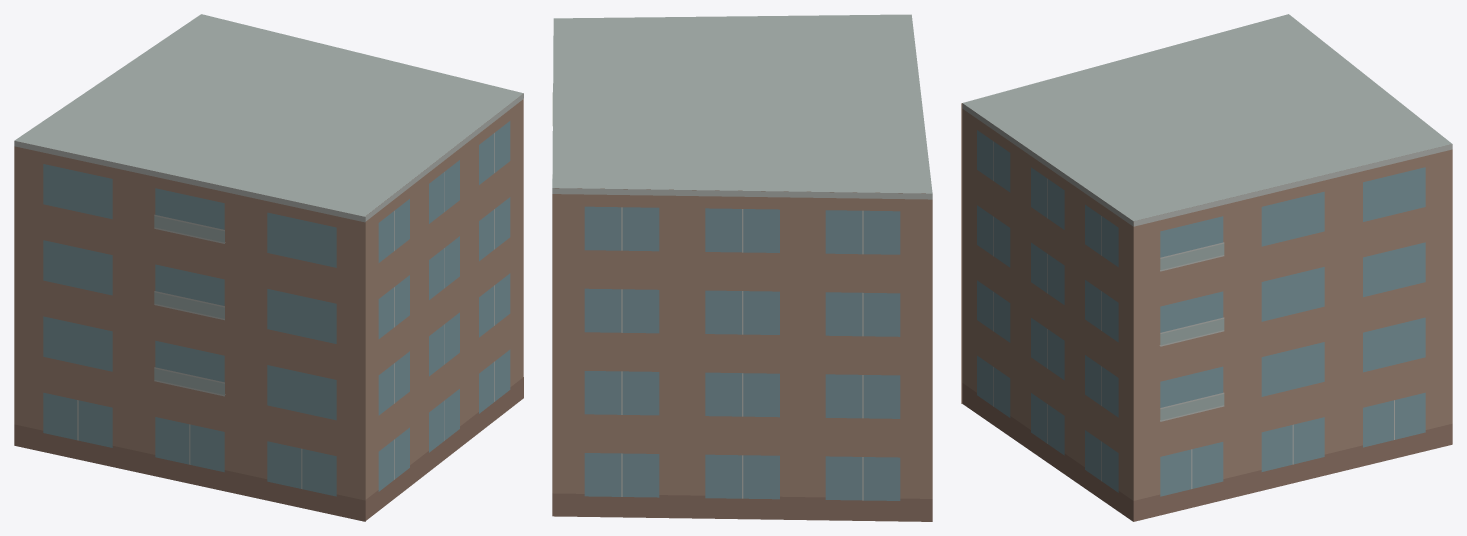
Rendered from survey-upis-32840286.glb.
3 renders of one model, left to right at view 1: azimuth 30°, elevation 25°; view 2: azimuth 150°, elevation 25°; view 3: azimuth 270°, elevation 25°, orthographic. The views are drawn at different scales.
Visible parts, largest first — view 1: survey-upis-32840286.tmp; view 2: survey-upis-32840286.tmp; view 3: survey-upis-32840286.tmp.
Part boxes in pixels (left/top/right/bottom): survey-upis-32840286.tmp: left=14, top=14, right=523, bottom=521; survey-upis-32840286.tmp: left=552, top=14, right=932, bottom=521; survey-upis-32840286.tmp: left=961, top=14, right=1452, bottom=521.
Bounding box in the file's own units: 19.74 × 13.35 × 19.77.
